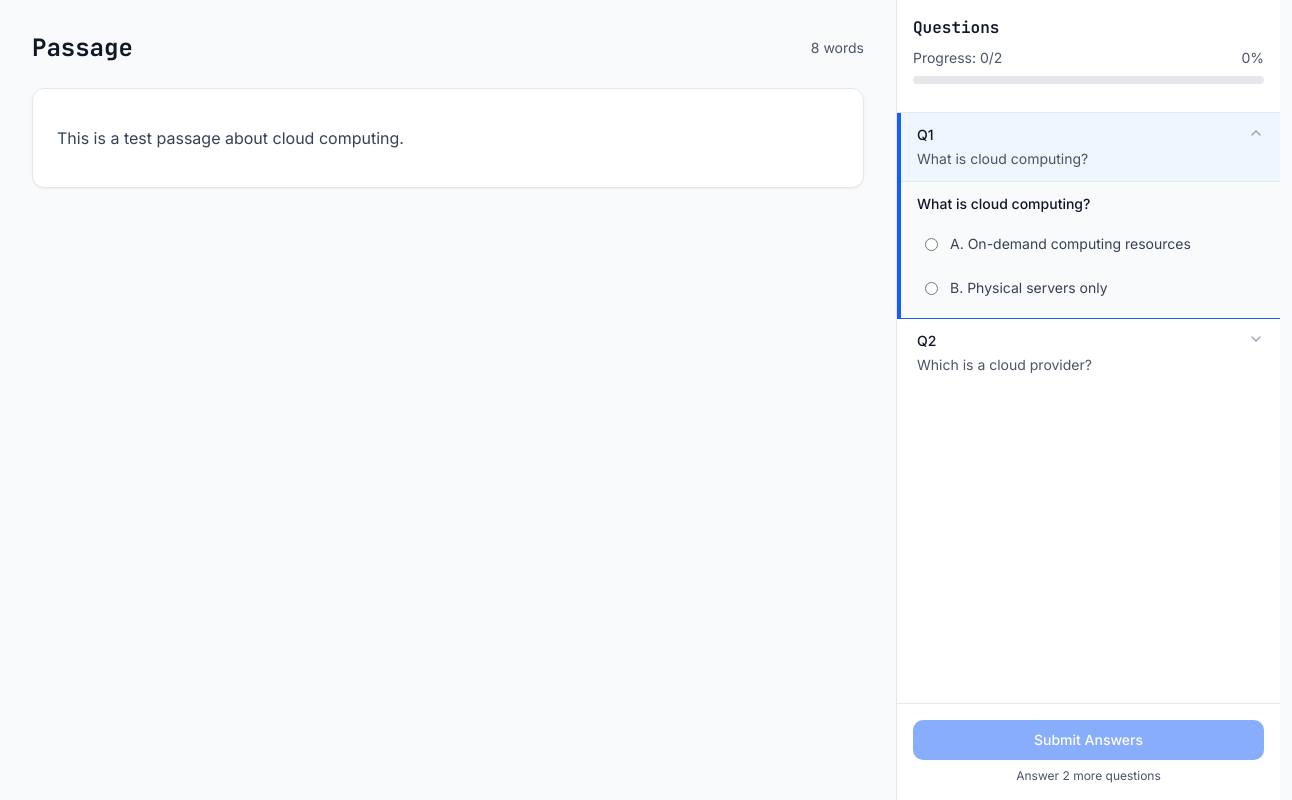
Test: ScenarioReader › Accessibility › should have visible focus indicator on interactive elements
Expected: the button "Submit Answers" is shown, [913,720,1264,760]
Click the radio button labelled "A. On-demand computing resources": (932, 244) [925,238,938,251]
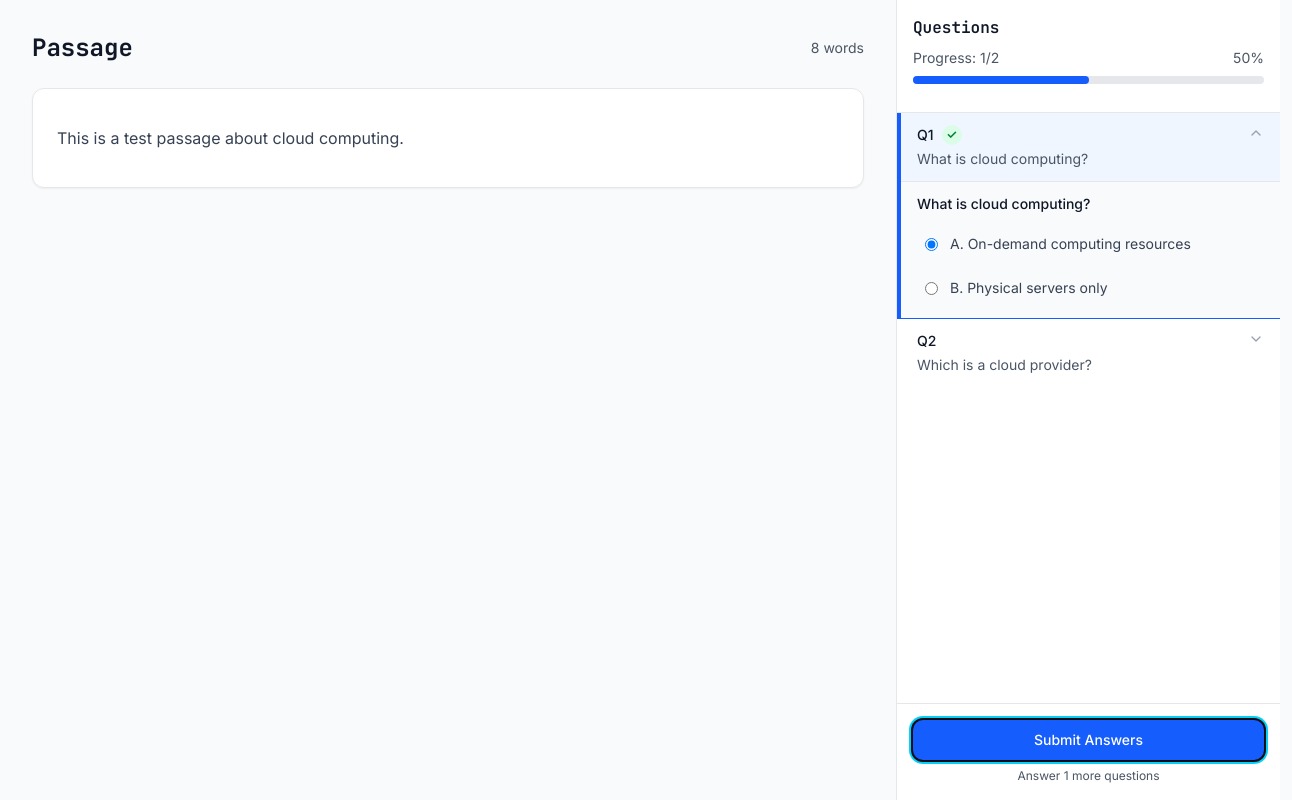
Expected: the button "Submit Answers" is enabled, [913,720,1264,760]
